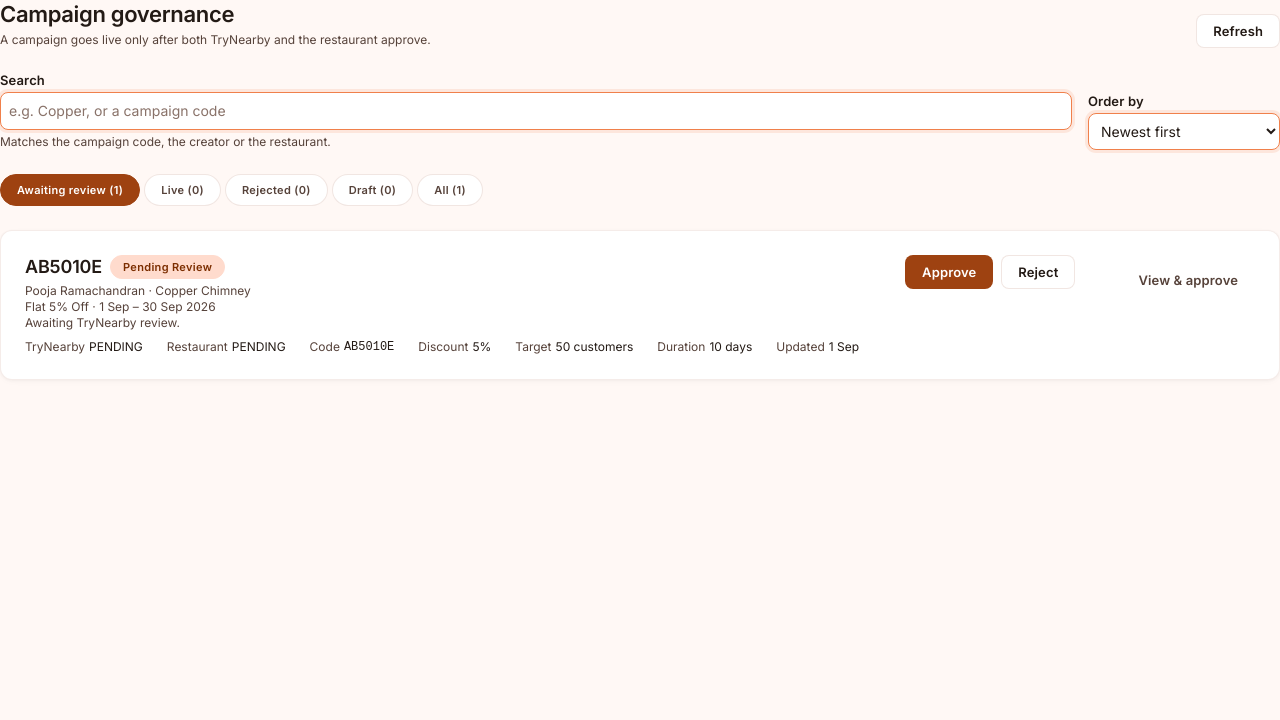
Test: AdminCampaigns › shows the refusal and claims no success when the backend declines
Click the button "Approve" at coordinates (949, 272), box [905,255,993,289]
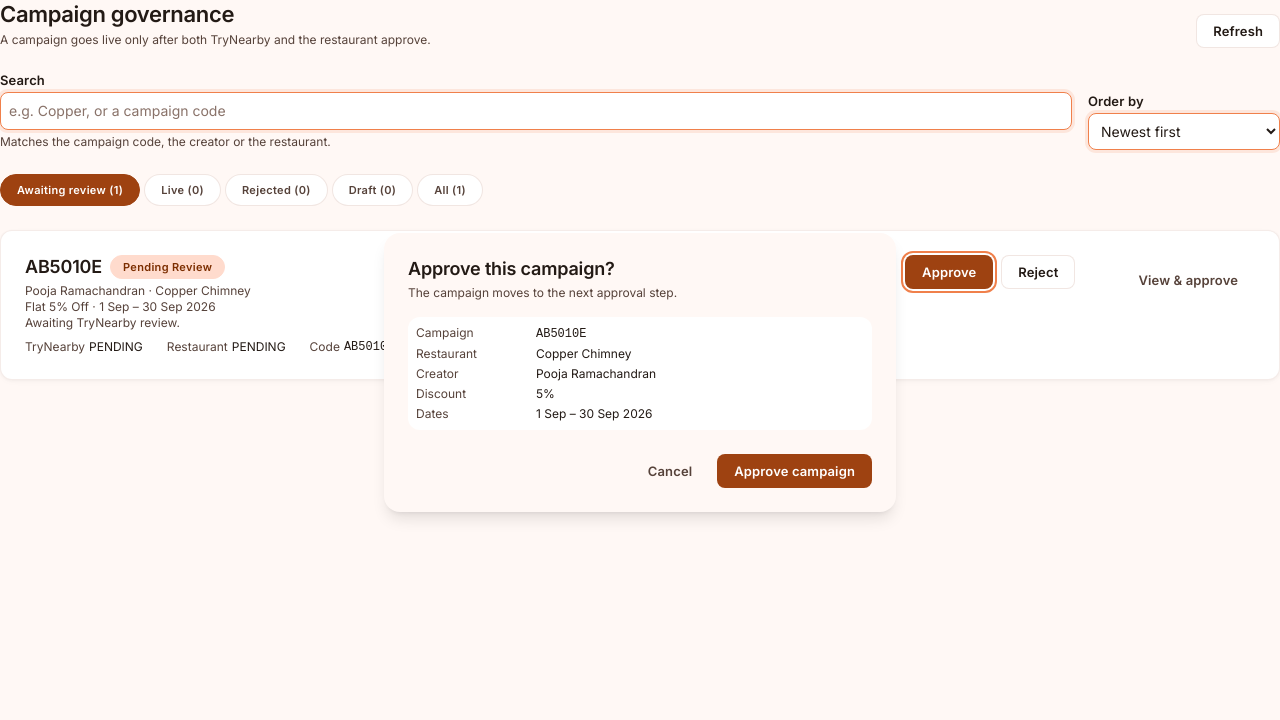
Click the button "Approve campaign" at coordinates (795, 470), box [717,454,872,488]
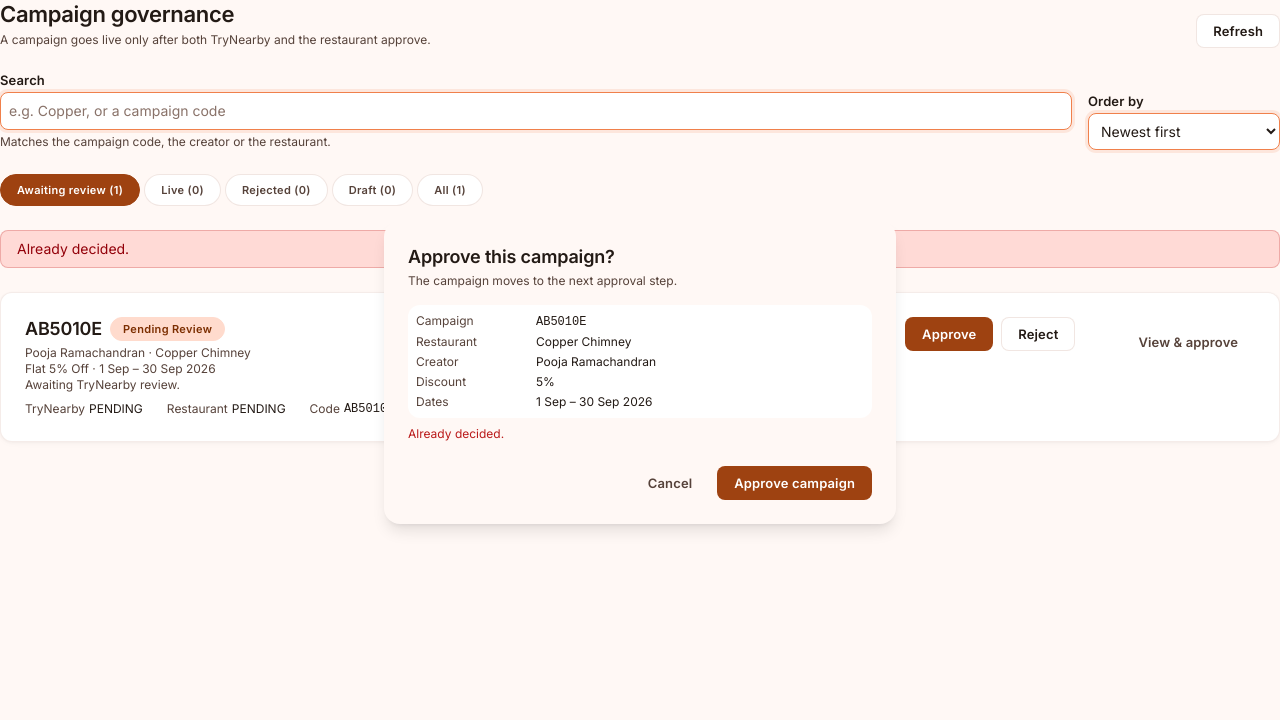
Expected: the text "Already decided." is shown, [0,230,1279,268]
